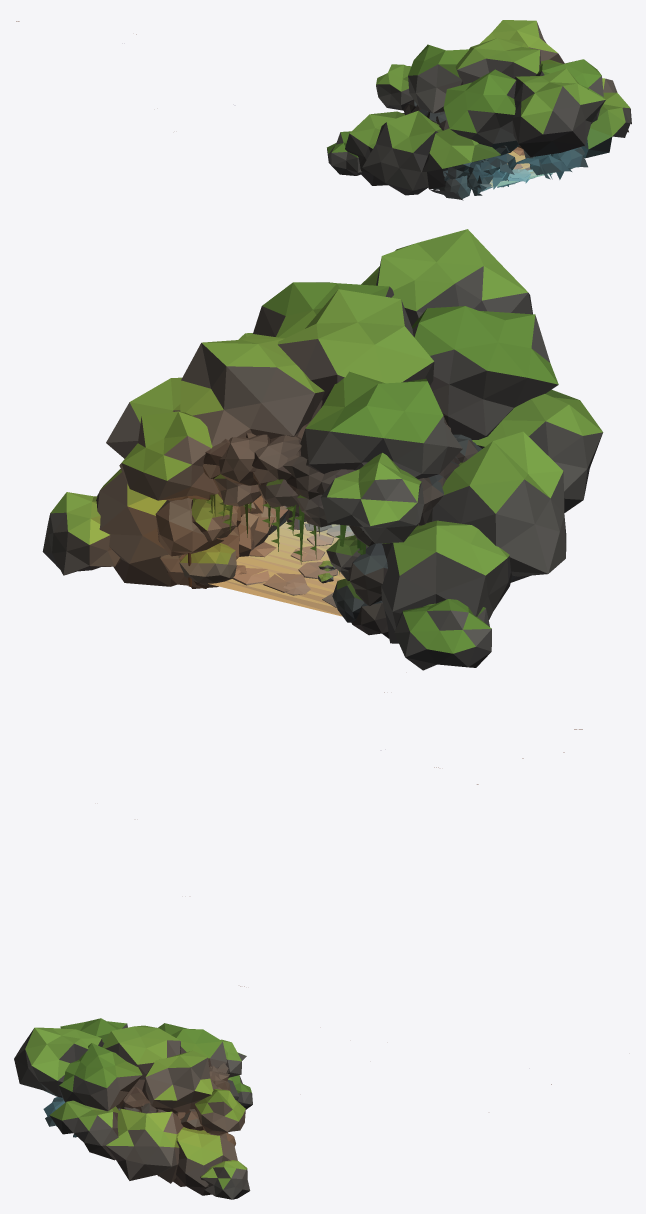
The model's file is cove-structure.glb.
3 renders of one model, top to bottom at view 1: azimuth 30°, elevation 25°; view 2: azimuth 150°, elevation 25°; view 3: azimuth 270°, elevation 25°, orthographic. The views are drawn at different scales.
Visible parts, largest first — view 1: cove-structure; view 2: cove-structure; view 3: cove-structure.
Part boxes in pixels (x1,y1,x2,y2): cove-structure: (16,20,631,200); cove-structure: (42,229,603,986); cove-structure: (14,1018,551,1199).
Size of the model in its own units: 24.32 by 9.73 by 40.83.
